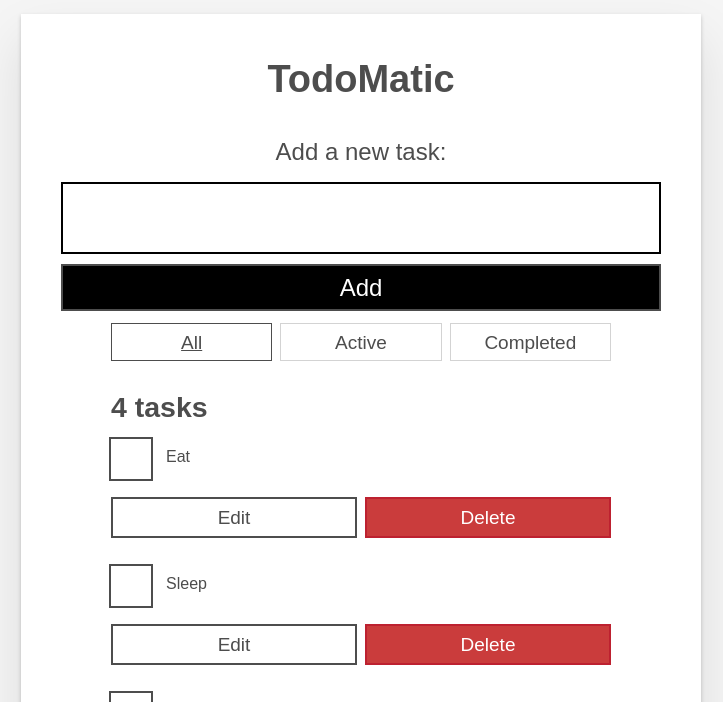
Filtering tasks › Showing completed tasks with Completed filter
The width and height of the screenshot is (723, 702).
Click the button "Completed" at point(531, 343), box [450,323,611,362]
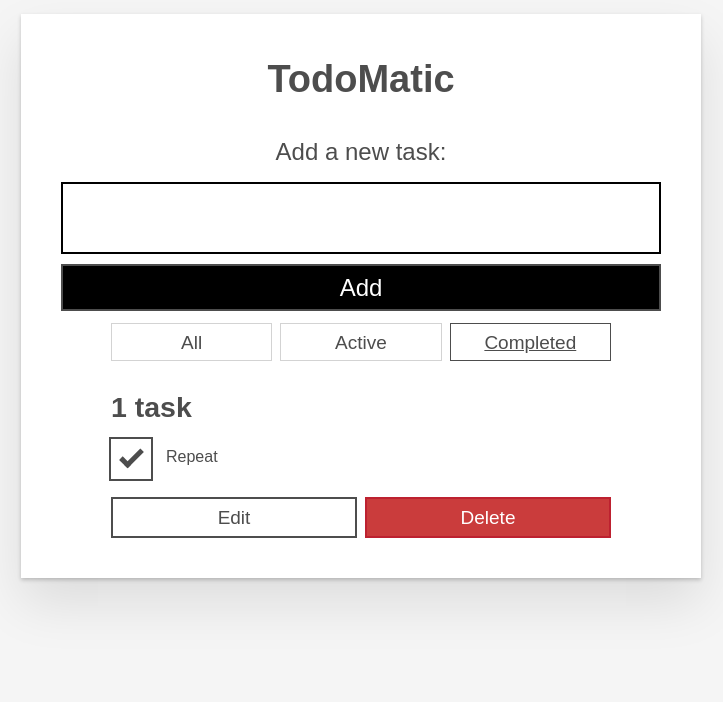
Now the number of list items is 1, box [111,439,611,538]
